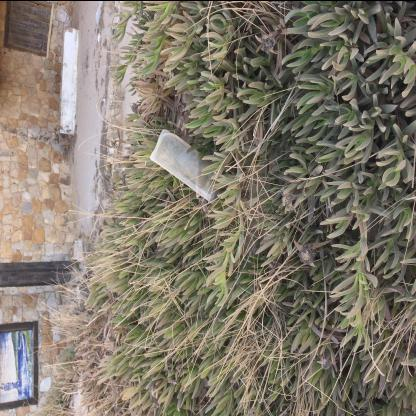plastik: (151, 129, 223, 205)
